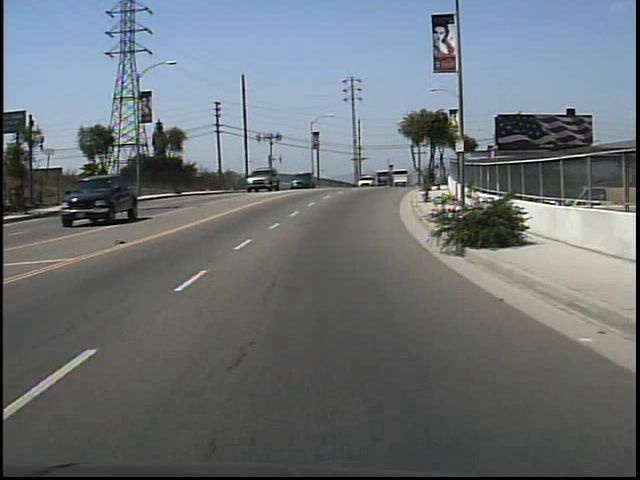person: (432, 164, 446, 192)
